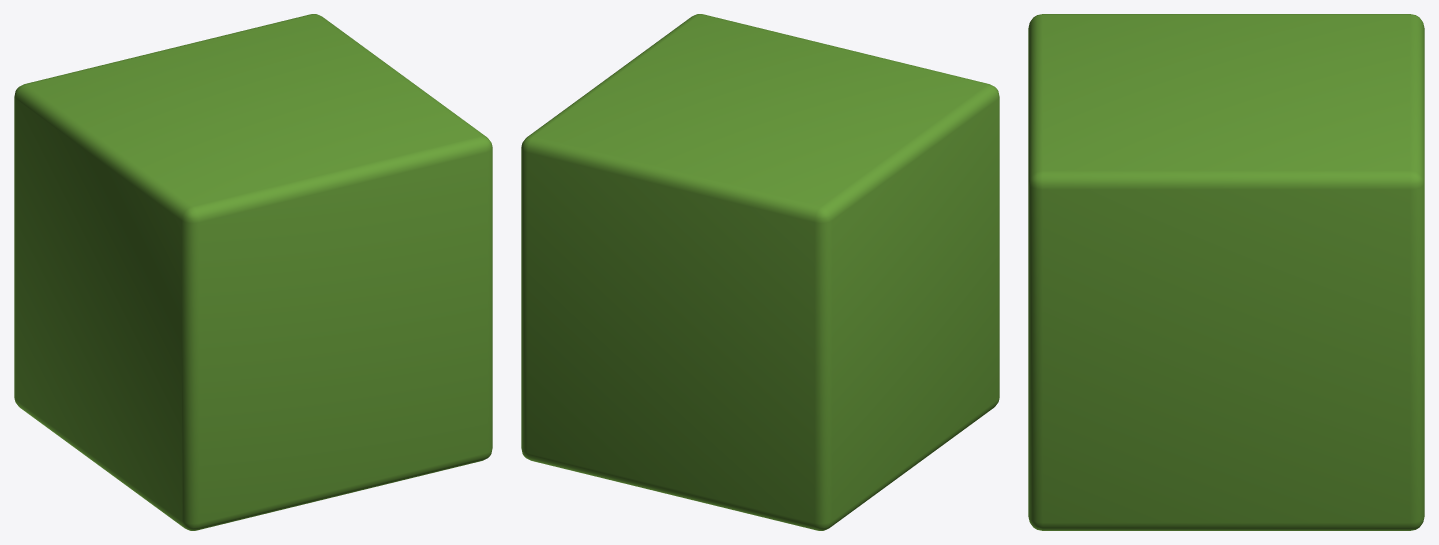
The model's file is green_square.glb.
The picture shows the model from 3 angles, left to right: view 1: azimuth 30°, elevation 25°; view 2: azimuth 150°, elevation 25°; view 3: azimuth 270°, elevation 25°; orthographic projection. The views are drawn at different scales.
Parts seen in each view (by area): view 1: green square; view 2: green square; view 3: green square.
Part boxes in pixels (box(x1,y1,x2,y2)): green square: box(14, 14, 492, 530); green square: box(521, 14, 999, 530); green square: box(1028, 14, 1424, 530).
Size of the model in its own units: 1.92 by 1.92 by 1.92.
1 material, 1 textured.
